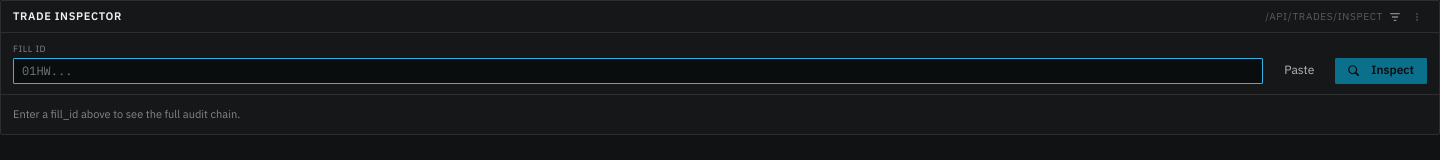
it: InspectorPanel (QF-229) › shows the raw error message for non-404 failures
This screenshot has width=1440, height=160.
Type "01HW-FILL-1" into the field with placeholder "01HW..." at (638, 71), box top-left (13, 58), bottom-right (1263, 84)
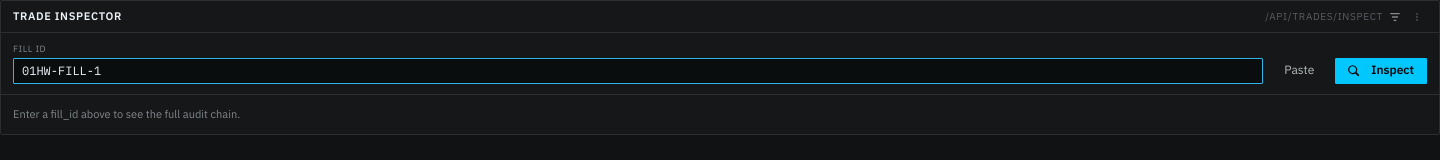
Click the button "Inspect" at (1381, 71), box top-left (1335, 58), bottom-right (1427, 84)
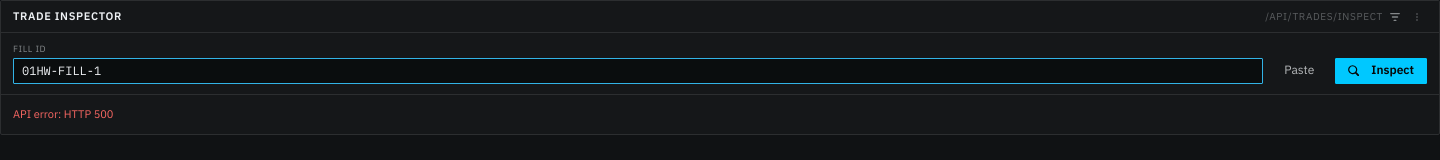
Expected: the text "API error: HTTP 500" is shown, top-left (13, 107), bottom-right (114, 121)
